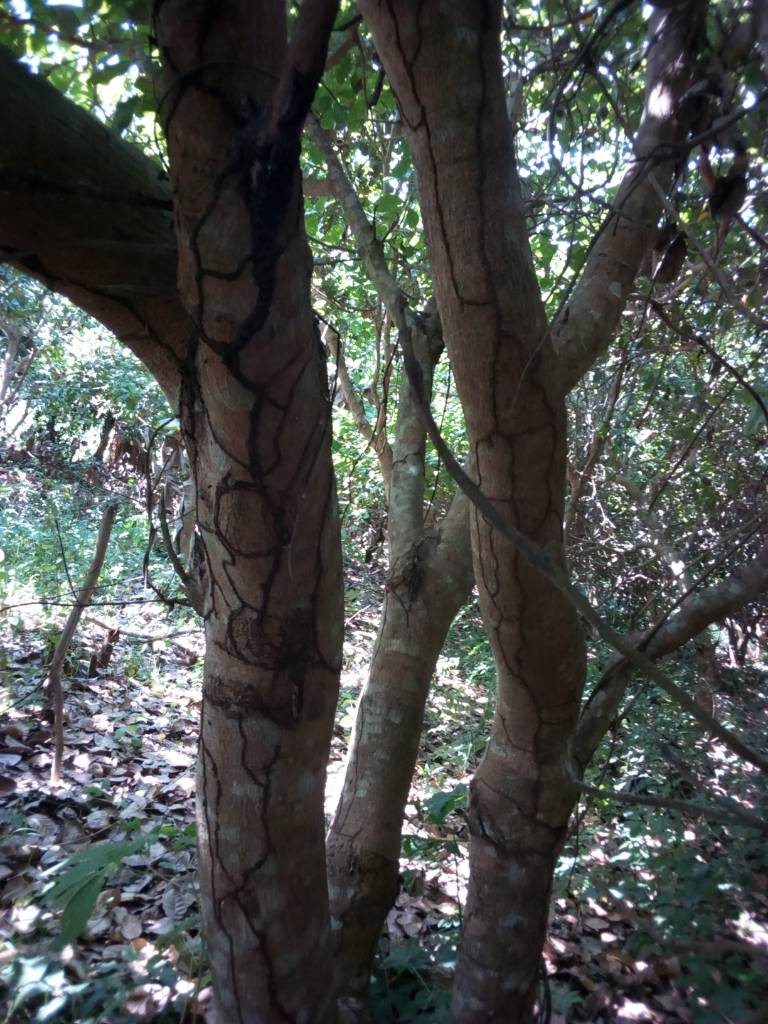Termites: (207, 132, 336, 992), (415, 85, 575, 464), (490, 588, 558, 922)
